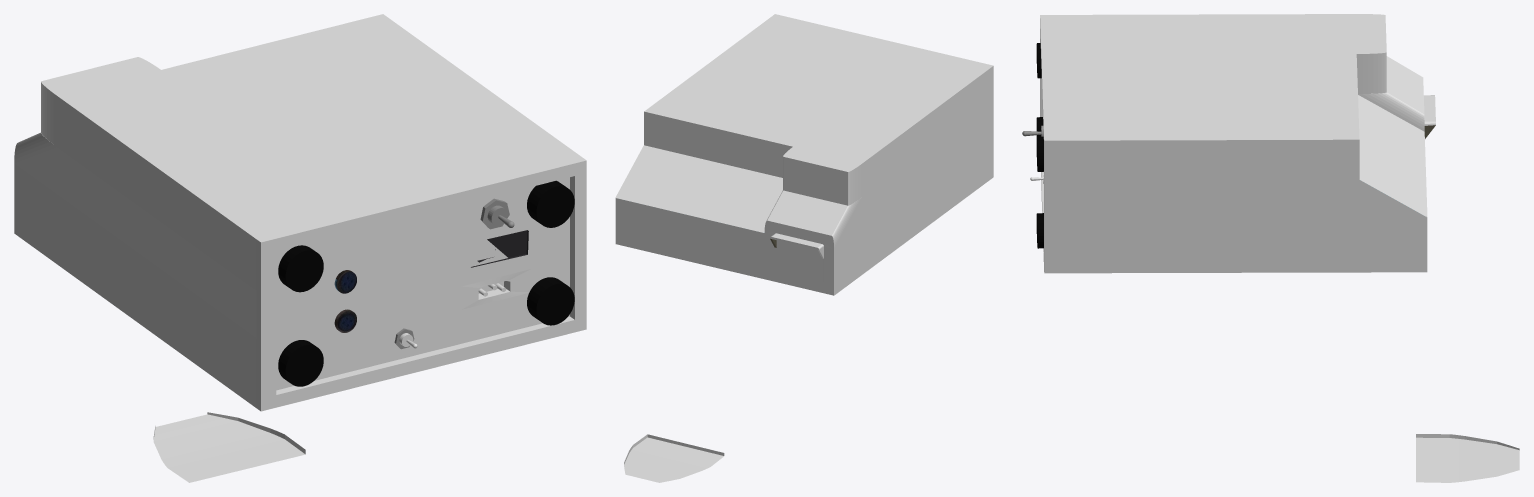
File: ElectroBisturi (1).glb
3 renders of one model, left to right at view 1: azimuth 30°, elevation 25°; view 2: azimuth 150°, elevation 25°; view 3: azimuth 270°, elevation 25°, orthographic. The views are drawn at different scales.
Visible parts, largest first — view 1: Cube, Plane, Cylinder.002, Cylinder.003, Cylinder, Cylinder.001, Plane.001; view 2: Cube, Plane; view 3: Cube, Plane.
Boxes of the visible parts, <box> form: Cube: <box>14,14,586,411</box>; Plane: <box>153,412,305,482</box>; Cylinder.002: <box>527,277,574,325</box>; Cylinder.003: <box>527,180,574,227</box>; Cylinder: <box>278,245,323,292</box>; Cylinder.001: <box>278,340,323,386</box>; Plane.001: <box>471,230,528,267</box>; Cube: <box>615,14,993,295</box>; Plane: <box>624,434,724,482</box>; Cube: <box>1040,14,1435,273</box>; Plane: <box>1416,434,1519,482</box>.
Size of the model in its own units: 2.68 by 3.54 by 4.44.
Materials: 6 (3 with a texture image).
